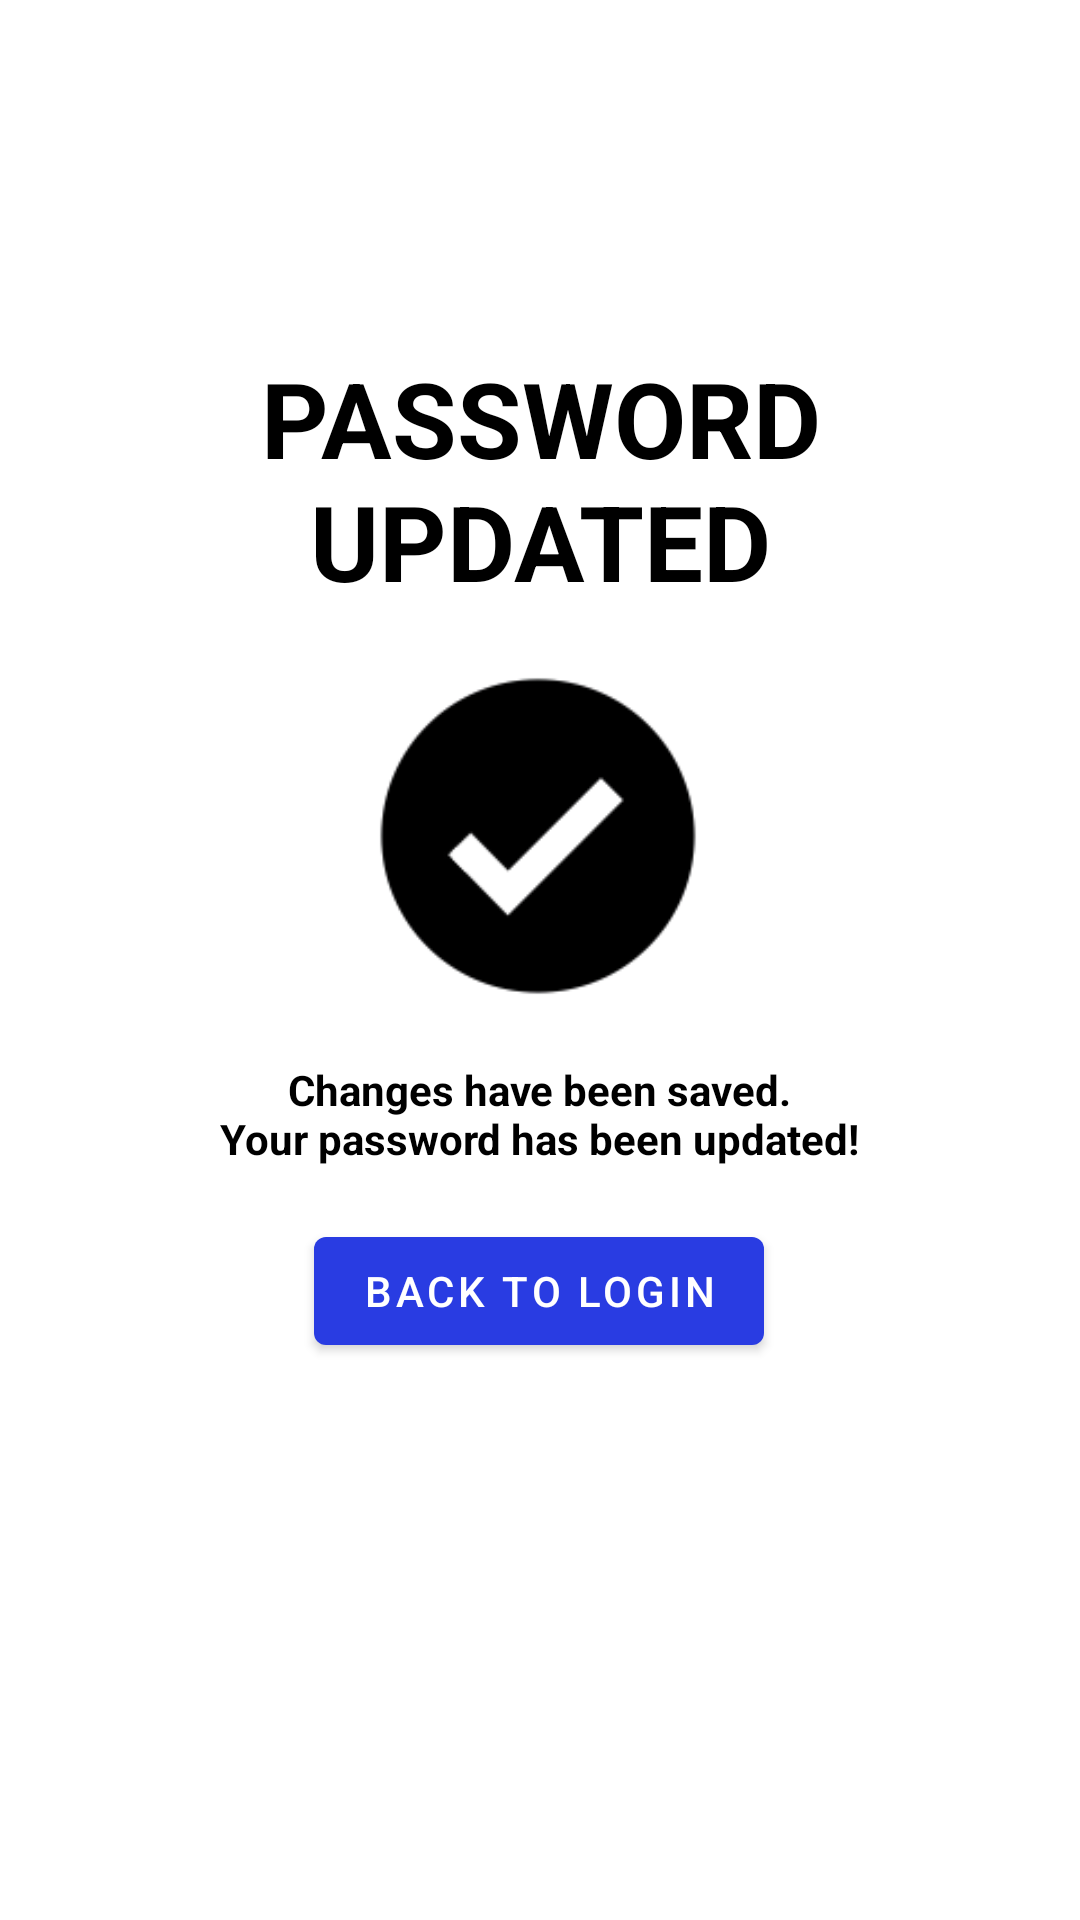

Where icons sit on this 1080x1920 app screen, as {"x1": x1, "y1": y1, "x2": x2, "y2": y2}:
check: {"x1": 380, "y1": 678, "x2": 696, "y2": 994}
